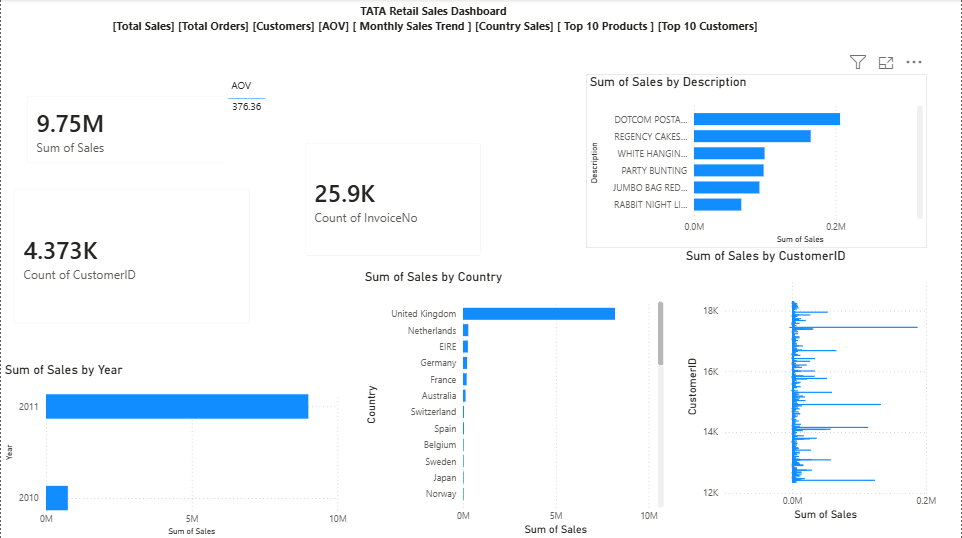

The page's visual inventory and layout, read from the dashboard file:
{"tool":"powerbi","page":{"name":"Page 1","canvas":[1280,720],"ordinal":0},"visuals":[{"type":"cardVisual","fields":{"Data":["Sum(Online Retail.Sales)"]},"box":[17.3,112,349.3,124],"z":0},{"type":"cardVisual","fields":{"Data":["Count(Online Retail.CustomerID)"]},"box":[0,236,349.3,214.7],"z":1000},{"type":"tableEx","fields":{"Values":["Online Retail.AOV"]},"box":[296,100,218.7,120],"z":2000},{"type":"cardVisual","fields":{"Data":["Count(Online Retail.InvoiceNo)"]},"box":[388,174.7,269.3,185.3],"z":3000},{"type":"barChart","fields":{"Category":["Online Retail.InvoiceDate.Variation.Date Hierarchy.Year","Online Retail.InvoiceDate.Variation.Date Hierarchy.Quarter","Online Retail.InvoiceDate.Variation.Date Hierarchy.Month","Online Retail.InvoiceDate.Variation.Date Hierarchy.Day"],"Y":["Sum(Online Retail.Sales)"]},"box":[0,484.3,465.7,235.7],"z":4000},{"type":"barChart","fields":{"Category":["Online Retail.Country"],"Y":["Sum(Online Retail.Sales)"]},"box":[480,360,408.6,360],"z":5000},{"type":"barChart","fields":{"Category":["Online Retail.Description"],"Y":["Sum(Online Retail.Sales)"]},"box":[780,100,454.3,231.4],"z":6000},{"type":"barChart","fields":{"Category":["Online Retail.CustomerID"],"Y":["Sum(Online Retail.Sales)"]},"box":[908.6,331.4,344.3,368.6],"z":7000},{"type":"textbox","box":[100,0,953.3,100],"z":8000}]}

Visuals, with their boxes in screenshot pixels (x1, y1, x2, y2), scaled from the page's 1280x720 canvas onto the 962x538 screenshot:
cardVisual - Sum(Online Retail.Sales): (13, 84, 276, 176)
cardVisual - Count(Online Retail.CustomerID): (0, 176, 263, 337)
tableEx - Online Retail.AOV: (222, 75, 387, 164)
cardVisual - Count(Online Retail.InvoiceNo): (292, 131, 494, 269)
barChart - Online Retail.InvoiceDate.Variation.Date Hierarchy.Year x Online Retail.InvoiceDate.Variation.Date Hierarchy.Quarter: (0, 362, 350, 537)
barChart - Online Retail.Country x Sum(Online Retail.Sales): (361, 269, 668, 537)
barChart - Online Retail.Description x Sum(Online Retail.Sales): (586, 75, 928, 248)
barChart - Online Retail.CustomerID x Sum(Online Retail.Sales): (683, 248, 942, 523)
textbox: (75, 0, 792, 75)
